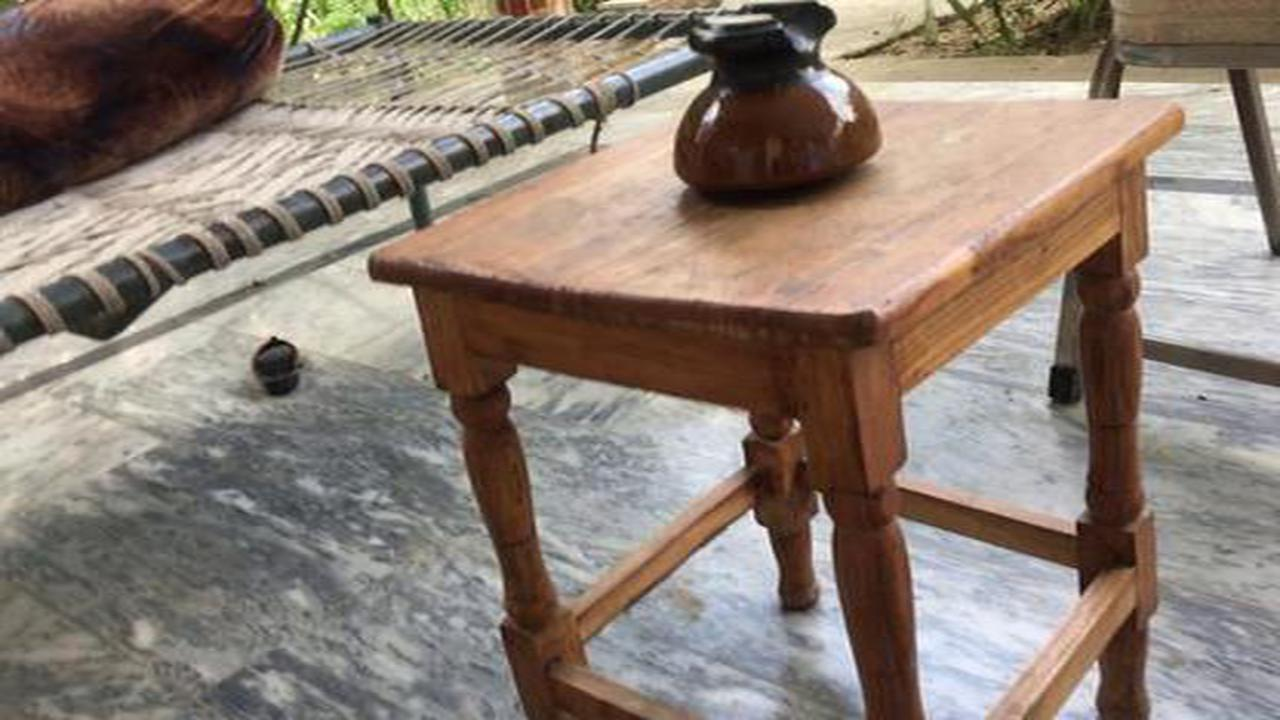insulator_pin: (631, 2, 911, 219)
